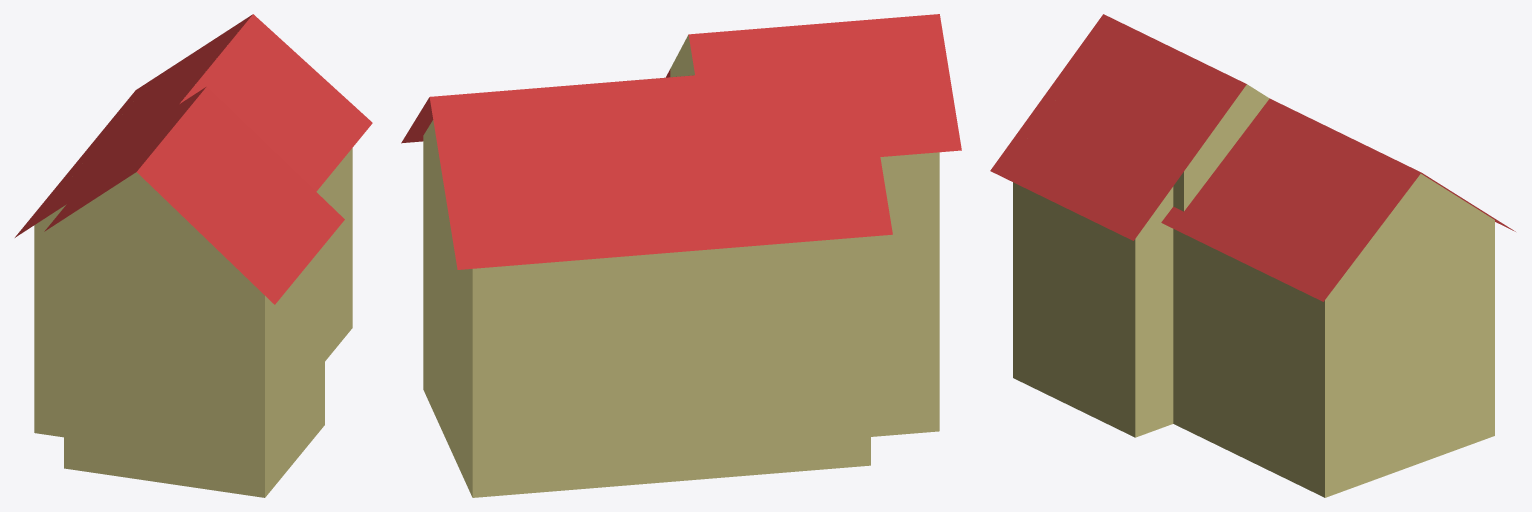
The picture shows the model from 3 angles, left to right: view 1: azimuth 30°, elevation 25°; view 2: azimuth 150°, elevation 25°; view 3: azimuth 270°, elevation 25°; orthographic projection. The views are drawn at different scales.
Visible parts, largest first — view 1: group_5, group_3, group_7, group_9, group_4, group_8; view 2: group_5, group_3, group_4, group_9, group_7; view 3: group_5, group_9, group_3, group_7, group_8, group_4.
Part boxes in pixels (box(x1,y1,x2,y2)): group_5: box(34, 172, 324, 497); group_3: box(35, 20, 344, 304); group_7: box(180, 14, 372, 177); group_9: box(316, 148, 352, 361); group_4: box(15, 14, 343, 304); group_8: box(261, 21, 372, 191); group_5: box(448, 34, 939, 497); group_3: box(430, 14, 961, 269); group_4: box(429, 14, 939, 269); group_9: box(423, 120, 447, 443); group_7: box(401, 77, 664, 143); group_5: box(1013, 84, 1494, 466); group_9: box(1184, 187, 1410, 497); group_3: box(991, 14, 1515, 240); group_7: box(1184, 98, 1421, 301); group_8: box(1161, 179, 1415, 301); group_4: box(990, 14, 1183, 239).
Bounding box in the file's own units: 21.86 × 24.44 × 16.44.
